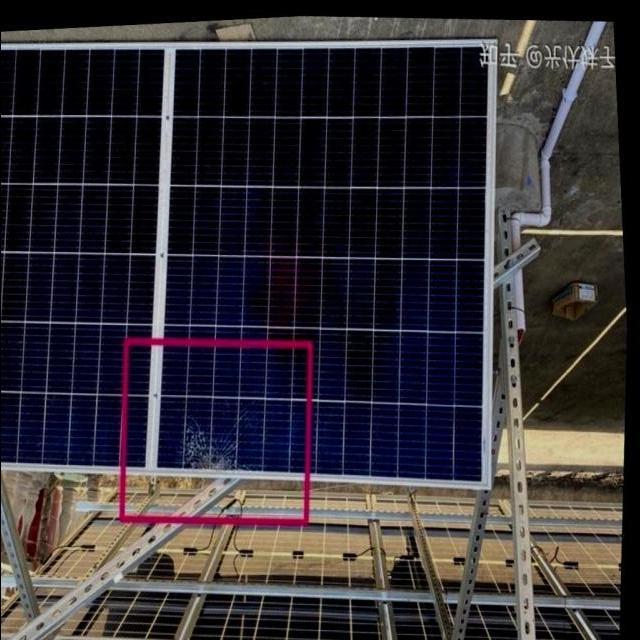cracked: (182, 403, 257, 473)
